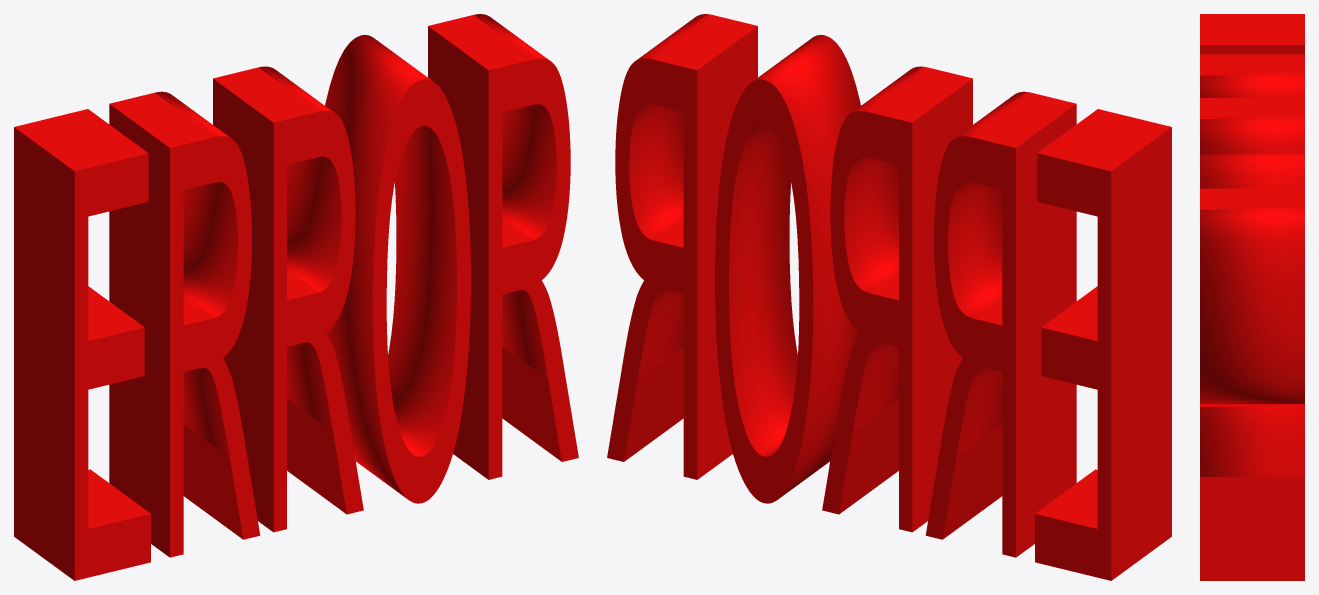
Rendered from error.obj.
3 renders of one model, left to right at view 1: azimuth 30°, elevation 25°; view 2: azimuth 150°, elevation 25°; view 3: azimuth 270°, elevation 25°, orthographic. The views are drawn at different scales.
Parts seen in each view (by area): view 1: error_waypoint; view 2: error_waypoint; view 3: error_waypoint.
Part boxes in pixels (left/top/right/bottom): error_waypoint: left=14, top=14, right=578, bottom=580; error_waypoint: left=607, top=14, right=1171, bottom=580; error_waypoint: left=1200, top=14, right=1304, bottom=580.
Bounding box in the file's own units: 1.5 × 1.21 × 0.3128.
